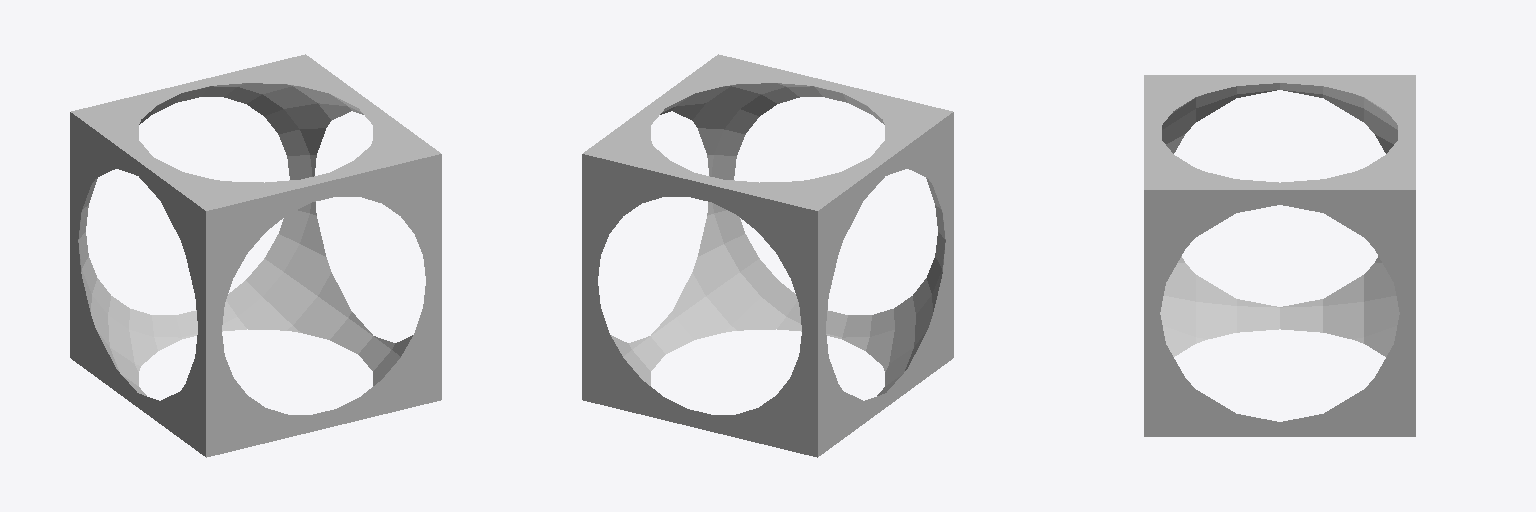
Rendered from cpu_frame.obj.
3 views of the same model, side by side, from view 1: azimuth 30°, elevation 25°; view 2: azimuth 150°, elevation 25°; view 3: azimuth 270°, elevation 25° (orthographic).
Size of the model in its own units: 12 by 12 by 12.